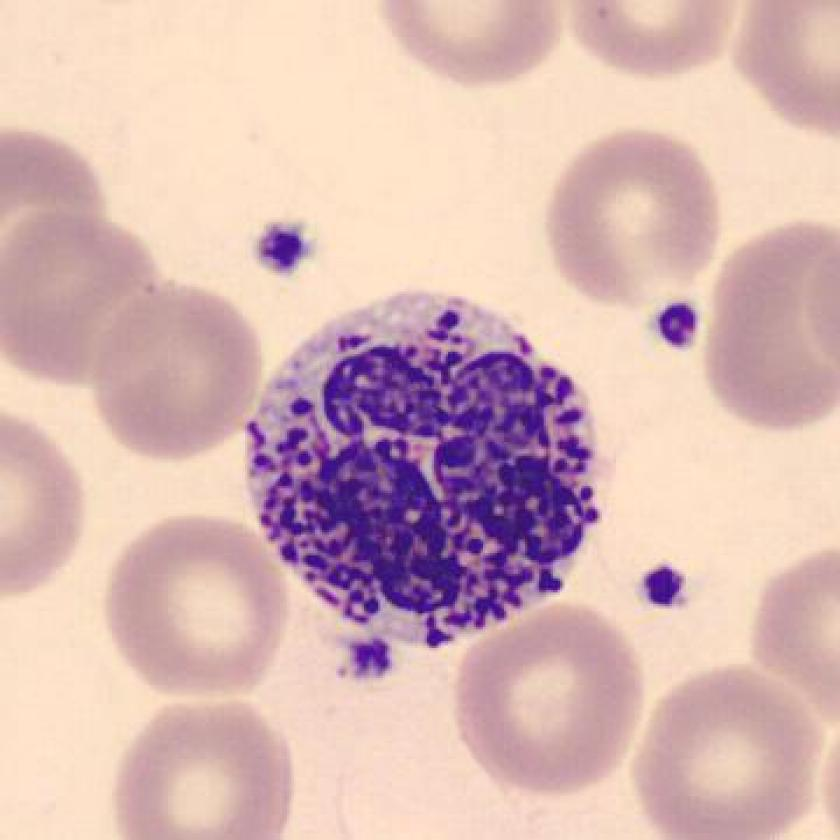basophil: (244, 286, 608, 644)
